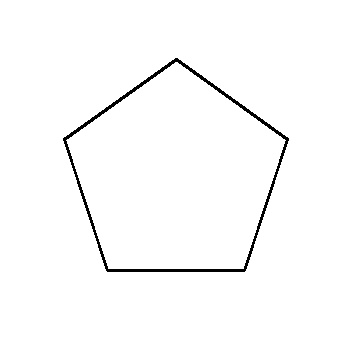line_segment: (63, 58, 290, 273)
